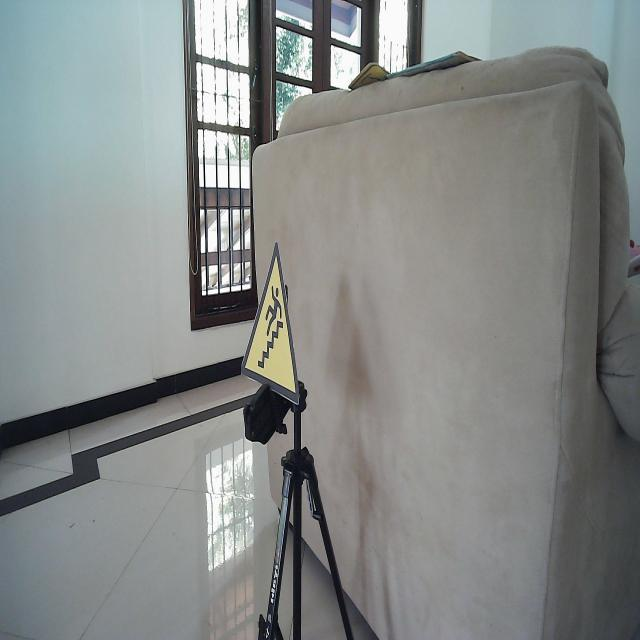stairs: (239, 238, 301, 409)
